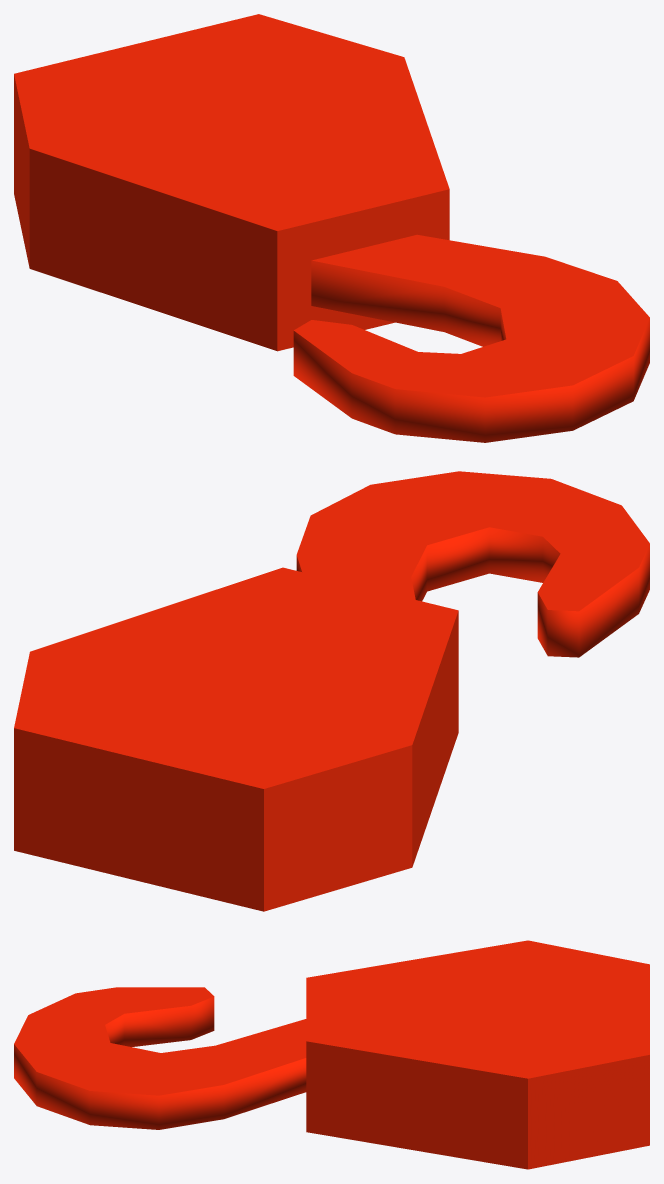
Rendered from hook_red.dae.
The picture shows the model from 3 angles, top to bottom: view 1: azimuth 30°, elevation 25°; view 2: azimuth 150°, elevation 25°; view 3: azimuth 270°, elevation 25°; orthographic projection. The views are drawn at different scales.
Visible parts, largest first — view 1: Hook; view 2: Hook; view 3: Hook.
Part boxes in pixels (x1,y1,x2,y2): Hook: [14, 14, 649, 442]; Hook: [14, 471, 649, 911]; Hook: [14, 940, 649, 1169].
Size of the model in its own units: 0.3271 by 0.6358 by 0.1002.
